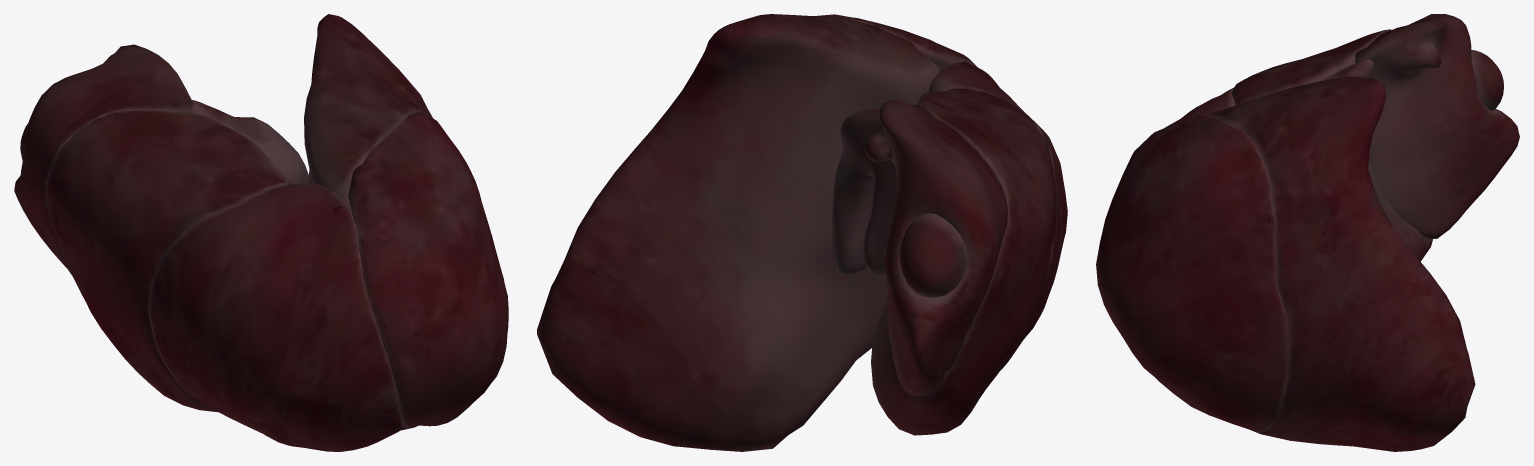
Rendered from Liver.glb.
3 renders of one model, left to right at view 1: azimuth 30°, elevation 25°; view 2: azimuth 150°, elevation 25°; view 3: azimuth 270°, elevation 25°, orthographic. The views are drawn at different scales.
Visible parts, largest first — view 1: LowLiverFull_low:FrontRight_low, LowLiverFull_low:FrontLeft_low, LowLiverFull_low:MiddleLeft_low, LowLiverFull_low:BackLeft_low, LowLiverFull_low:BackRight_low, LowLiverFull_low:Middle_low; view 2: LowLiverFull_low:BackLeft_low, LowLiverFull_low:MiddleLeft_low, LowLiverFull_low:BackRight_low, LowLiverFull_low:Middle_low, LowLiverFull_low:Gal_low, LowLiverFull_low:FrontRight_low, LowLiverFull_low:FrontLeft_low; view 3: LowLiverFull_low:BackLeft_low, LowLiverFull_low:FrontLeft_low, LowLiverFull_low:BackRight_low, LowLiverFull_low:MiddleLeft_low, LowLiverFull_low:Gal_low, LowLiverFull_low:FrontRight_low, LowLiverFull_low:Middle_low.
Part boxes in pixels (x1,y1,x2,y2): LowLiverFull_low:FrontRight_low: [148, 183, 403, 451]; LowLiverFull_low:FrontLeft_low: [348, 111, 508, 428]; LowLiverFull_low:MiddleLeft_low: [46, 110, 291, 412]; LowLiverFull_low:BackLeft_low: [304, 14, 432, 430]; LowLiverFull_low:BackRight_low: [14, 44, 193, 274]; LowLiverFull_low:Middle_low: [190, 100, 308, 184]; LowLiverFull_low:BackLeft_low: [537, 14, 939, 451]; LowLiverFull_low:MiddleLeft_low: [871, 88, 1056, 435]; LowLiverFull_low:BackRight_low: [865, 100, 1007, 395]; LowLiverFull_low:Middle_low: [832, 105, 896, 276]; LowLiverFull_low:Gal_low: [900, 213, 967, 297]; LowLiverFull_low:FrontRight_low: [928, 61, 1067, 370]; LowLiverFull_low:FrontLeft_low: [817, 14, 977, 71]; LowLiverFull_low:BackLeft_low: [1207, 76, 1475, 451]; LowLiverFull_low:FrontLeft_low: [1096, 116, 1288, 432]; LowLiverFull_low:BackRight_low: [1355, 14, 1519, 238]; LowLiverFull_low:MiddleLeft_low: [1232, 29, 1432, 261]; LowLiverFull_low:Gal_low: [1471, 50, 1503, 110]; LowLiverFull_low:FrontRight_low: [1165, 87, 1235, 127]; LowLiverFull_low:Middle_low: [1325, 59, 1373, 79].
Size of the model in its own units: 82.02 by 75.79 by 80.3.
Materials: 1 (1 with a texture image).
